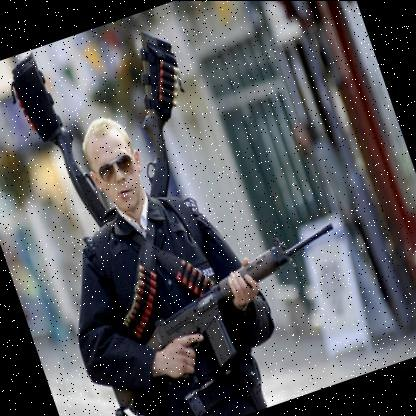rifle: (119, 216, 368, 395)
